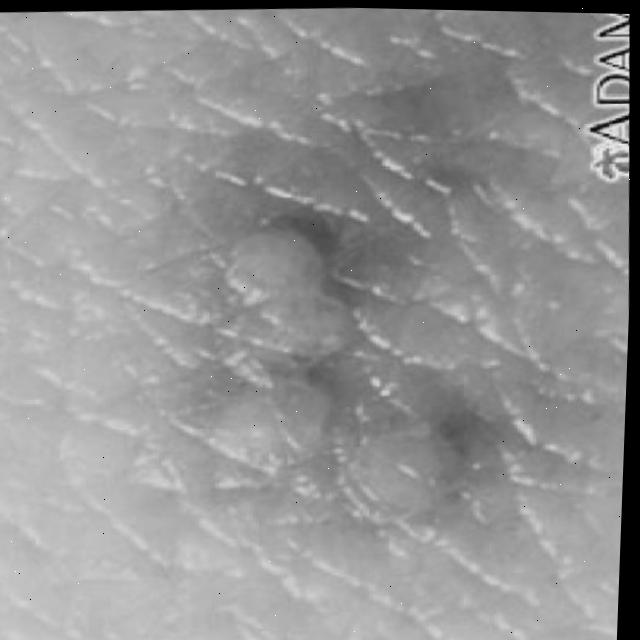Shingles: (192, 229, 458, 499)
